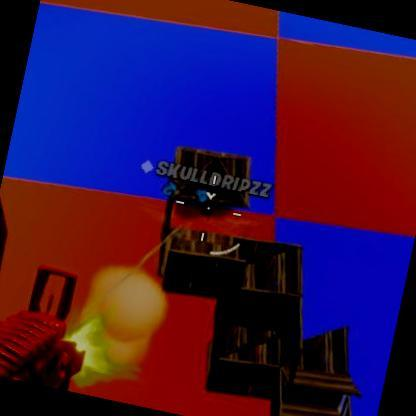person: (199, 204, 211, 222)
